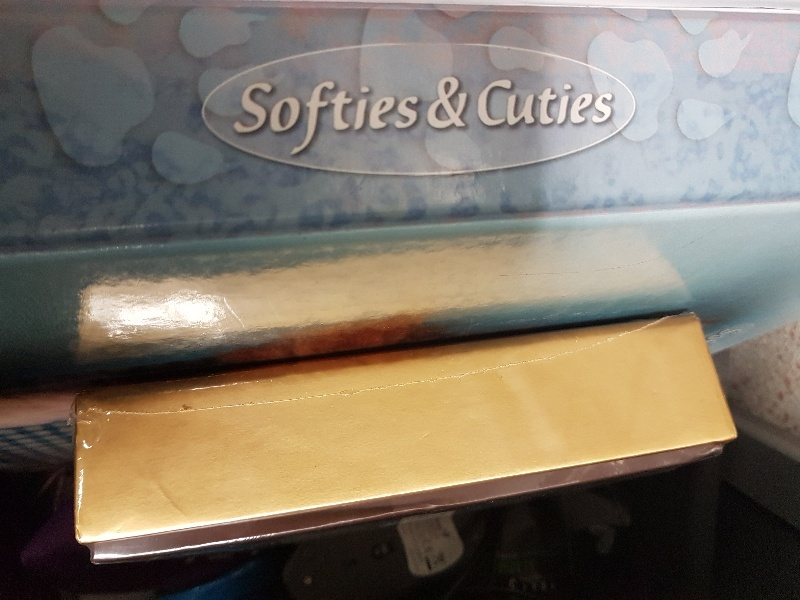text: (241, 81, 256, 156), (257, 81, 272, 156), (273, 81, 288, 156), (289, 81, 304, 156), (305, 81, 320, 156), (321, 81, 336, 156), (337, 81, 352, 156), (353, 81, 368, 156), (369, 81, 384, 156), (385, 81, 400, 156), (401, 81, 416, 156), (433, 76, 448, 130), (449, 76, 464, 130), (481, 79, 496, 127), (497, 79, 512, 127), (513, 79, 528, 127), (529, 79, 544, 127), (545, 79, 560, 127), (561, 79, 576, 127), (577, 79, 592, 127), (593, 79, 608, 127), (232, 81, 240, 156), (427, 76, 432, 130), (609, 79, 614, 127), (476, 79, 480, 127), (465, 76, 468, 130), (417, 81, 419, 156)
